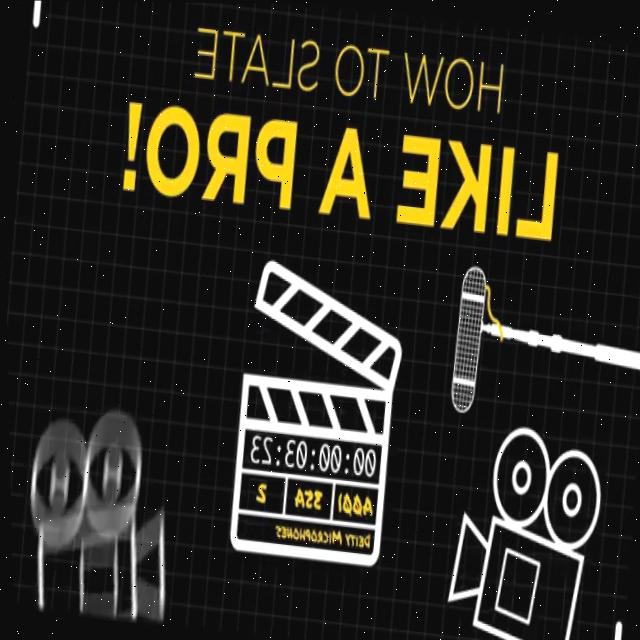Clapperboard: (231, 262, 401, 564)
